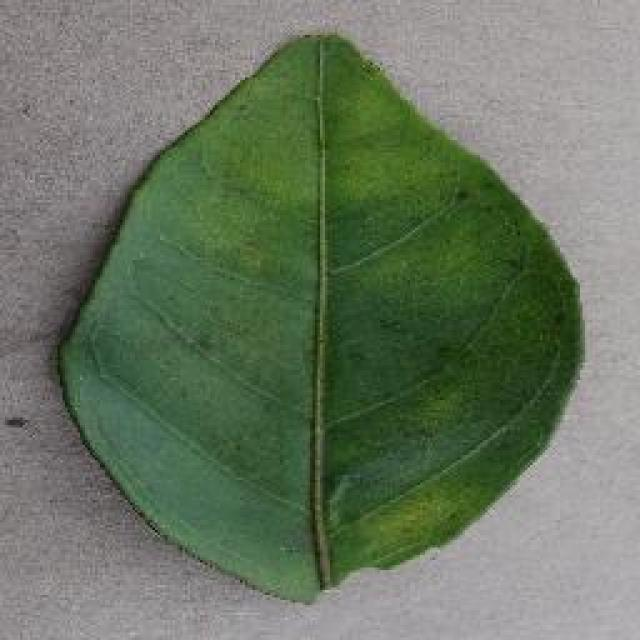Orange_Haunglongbing_Citrus_greening: (124, 126, 535, 544)
